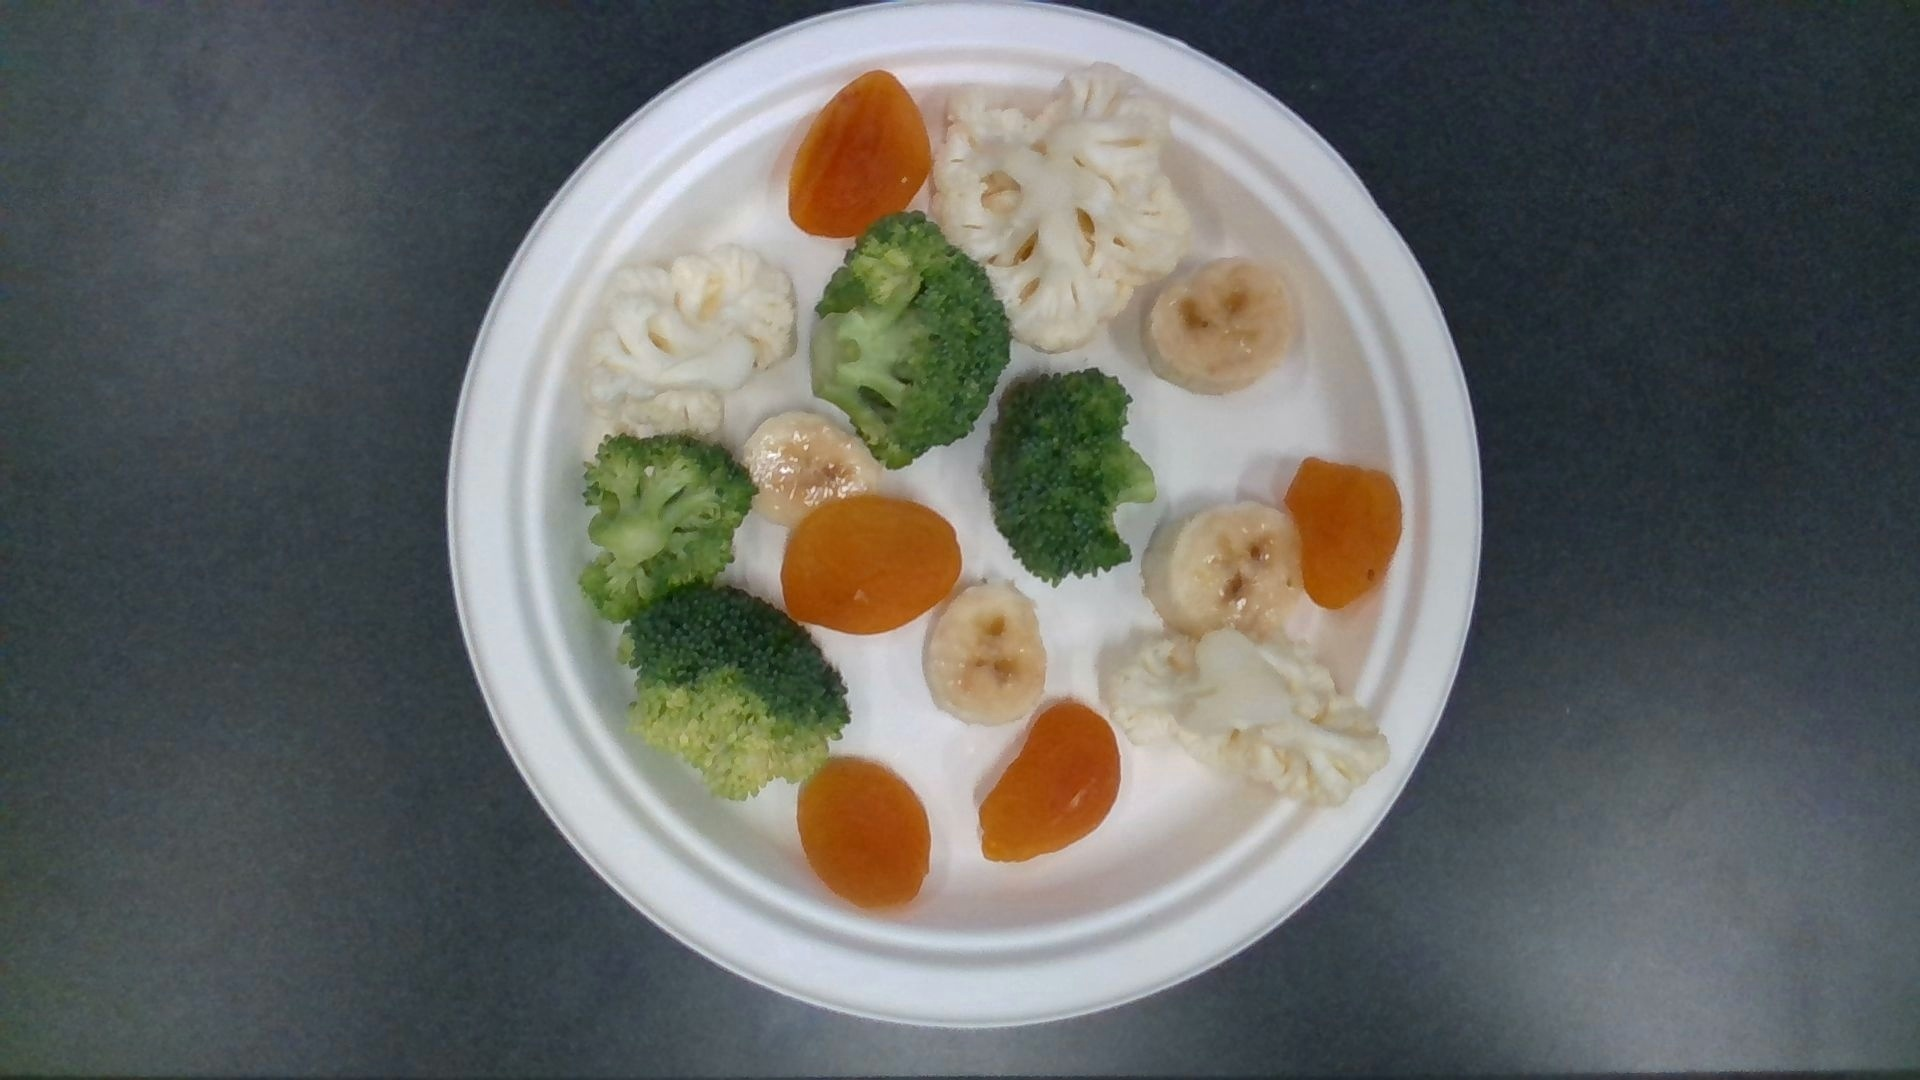apricot: (781, 498, 963, 636), (790, 69, 928, 236), (982, 703, 1120, 856), (795, 760, 930, 906), (1287, 458, 1404, 608)
banana: (1145, 500, 1304, 636), (1145, 260, 1294, 396), (924, 582, 1047, 721), (742, 413, 876, 521)
broccoli: (808, 216, 1010, 463), (622, 588, 849, 795), (990, 373, 1154, 574), (579, 436, 754, 615)
cauliflower: (932, 65, 1189, 345), (1112, 632, 1393, 803), (580, 251, 794, 431)
